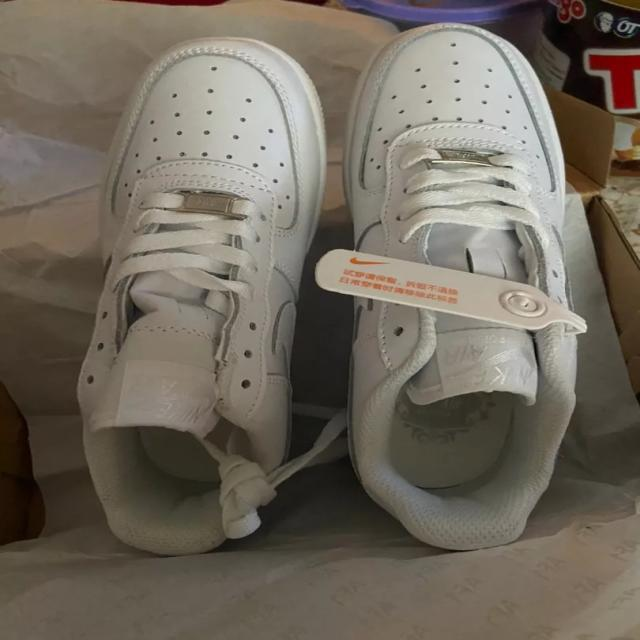nike fake air force: (76, 30, 334, 557), (336, 22, 577, 553), (333, 24, 589, 414)
